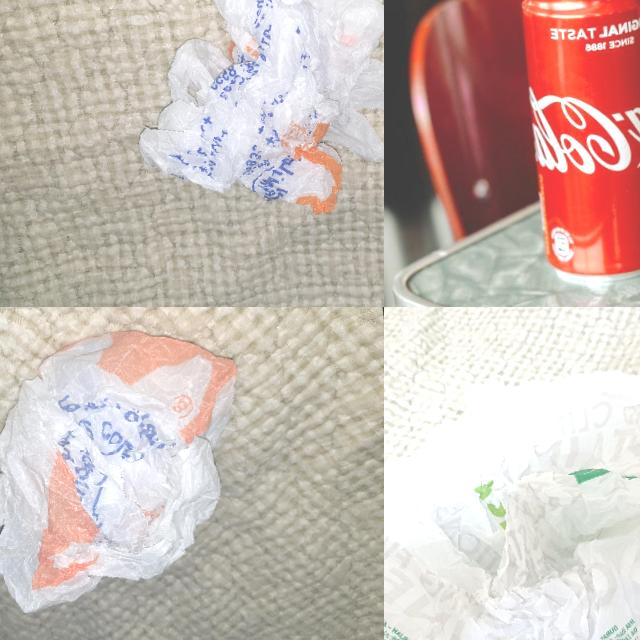lata: (516, 0, 640, 287)
sacola plástica: (0, 307, 261, 612), (384, 343, 640, 640), (119, 0, 384, 231)
